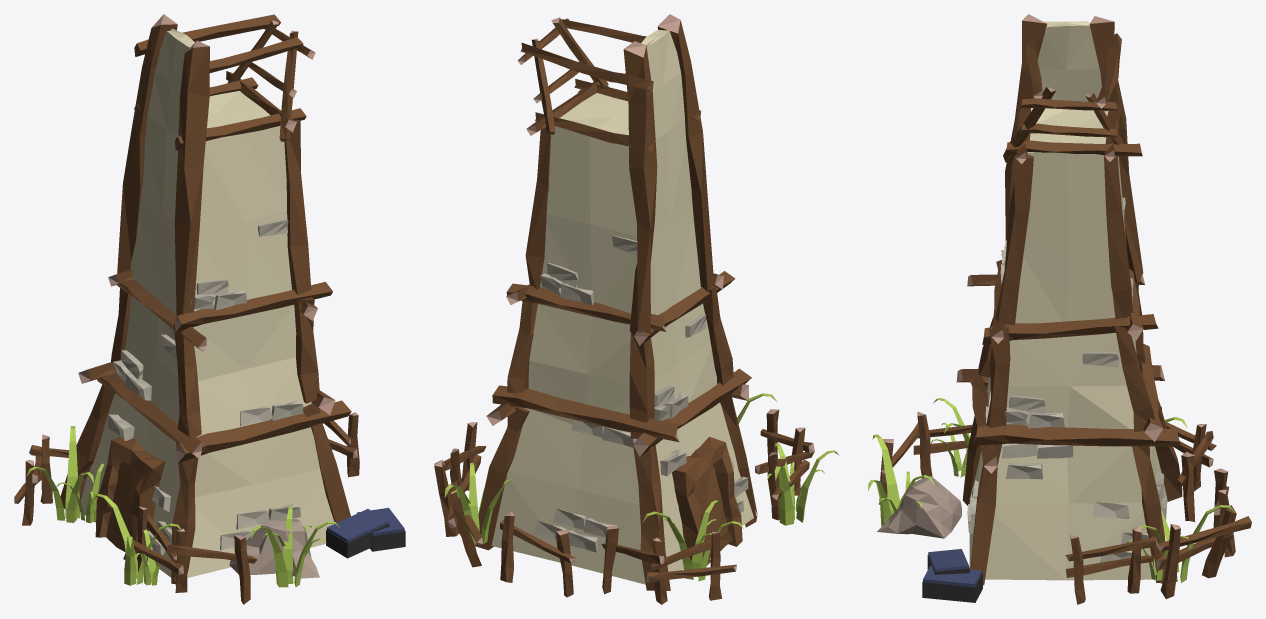
The model's file is mill_base.fbx.
3 views of the same model, side by side, from view 1: azimuth 30°, elevation 25°; view 2: azimuth 150°, elevation 25°; view 3: azimuth 270°, elevation 25° (orthographic).
Parts seen in each view (by area): view 1: mill_base; view 2: mill_base; view 3: mill_base.
Boxes of the visible parts, box(x1,y1,x2,y2) form: mill_base: box(14, 14, 405, 604); mill_base: box(434, 14, 838, 604); mill_base: box(868, 14, 1251, 604).
Bounding box in the file's own units: 784 × 1243 × 841.
